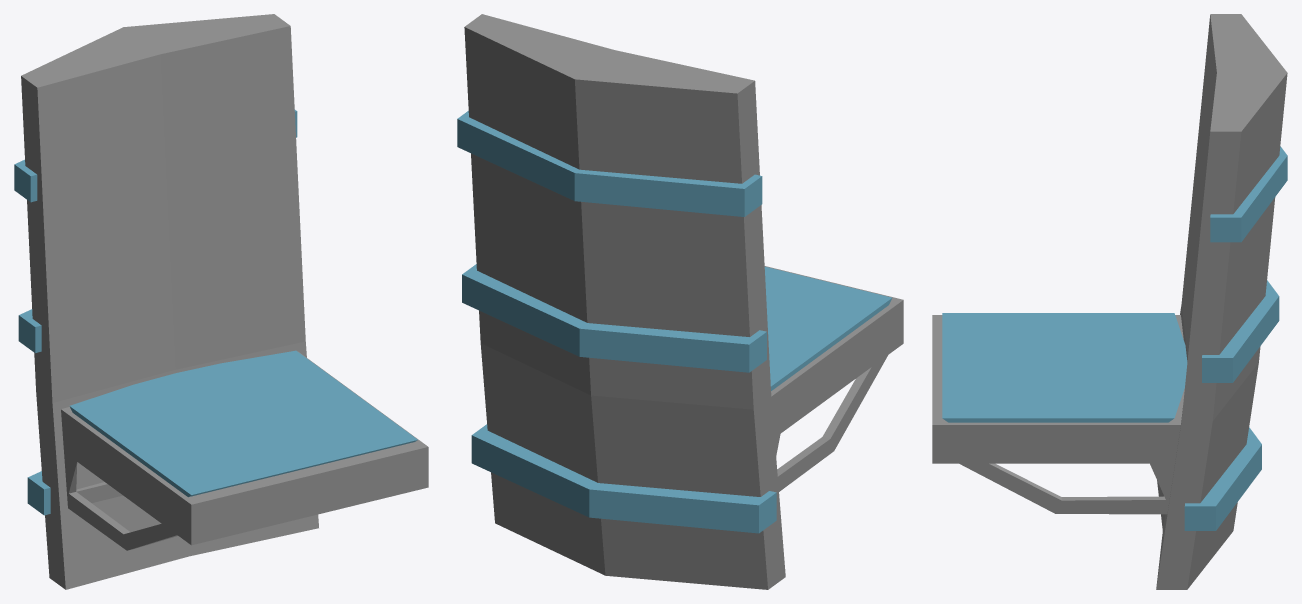
File: Chair.fbx
3 views of the same model, side by side, from view 1: azimuth 30°, elevation 25°; view 2: azimuth 150°, elevation 25°; view 3: azimuth 270°, elevation 25° (orthographic). The views are drawn at different scales.
Visible parts, largest first — view 1: Cube.008; view 2: Cube.008; view 3: Cube.008.
Boxes of the visible parts, box(x1,y1,x2,y2) form: Cube.008: box(14, 14, 428, 589); Cube.008: box(457, 14, 903, 589); Cube.008: box(932, 14, 1287, 589).
Bounding box in the file's own units: 687 × 1185 × 832.
